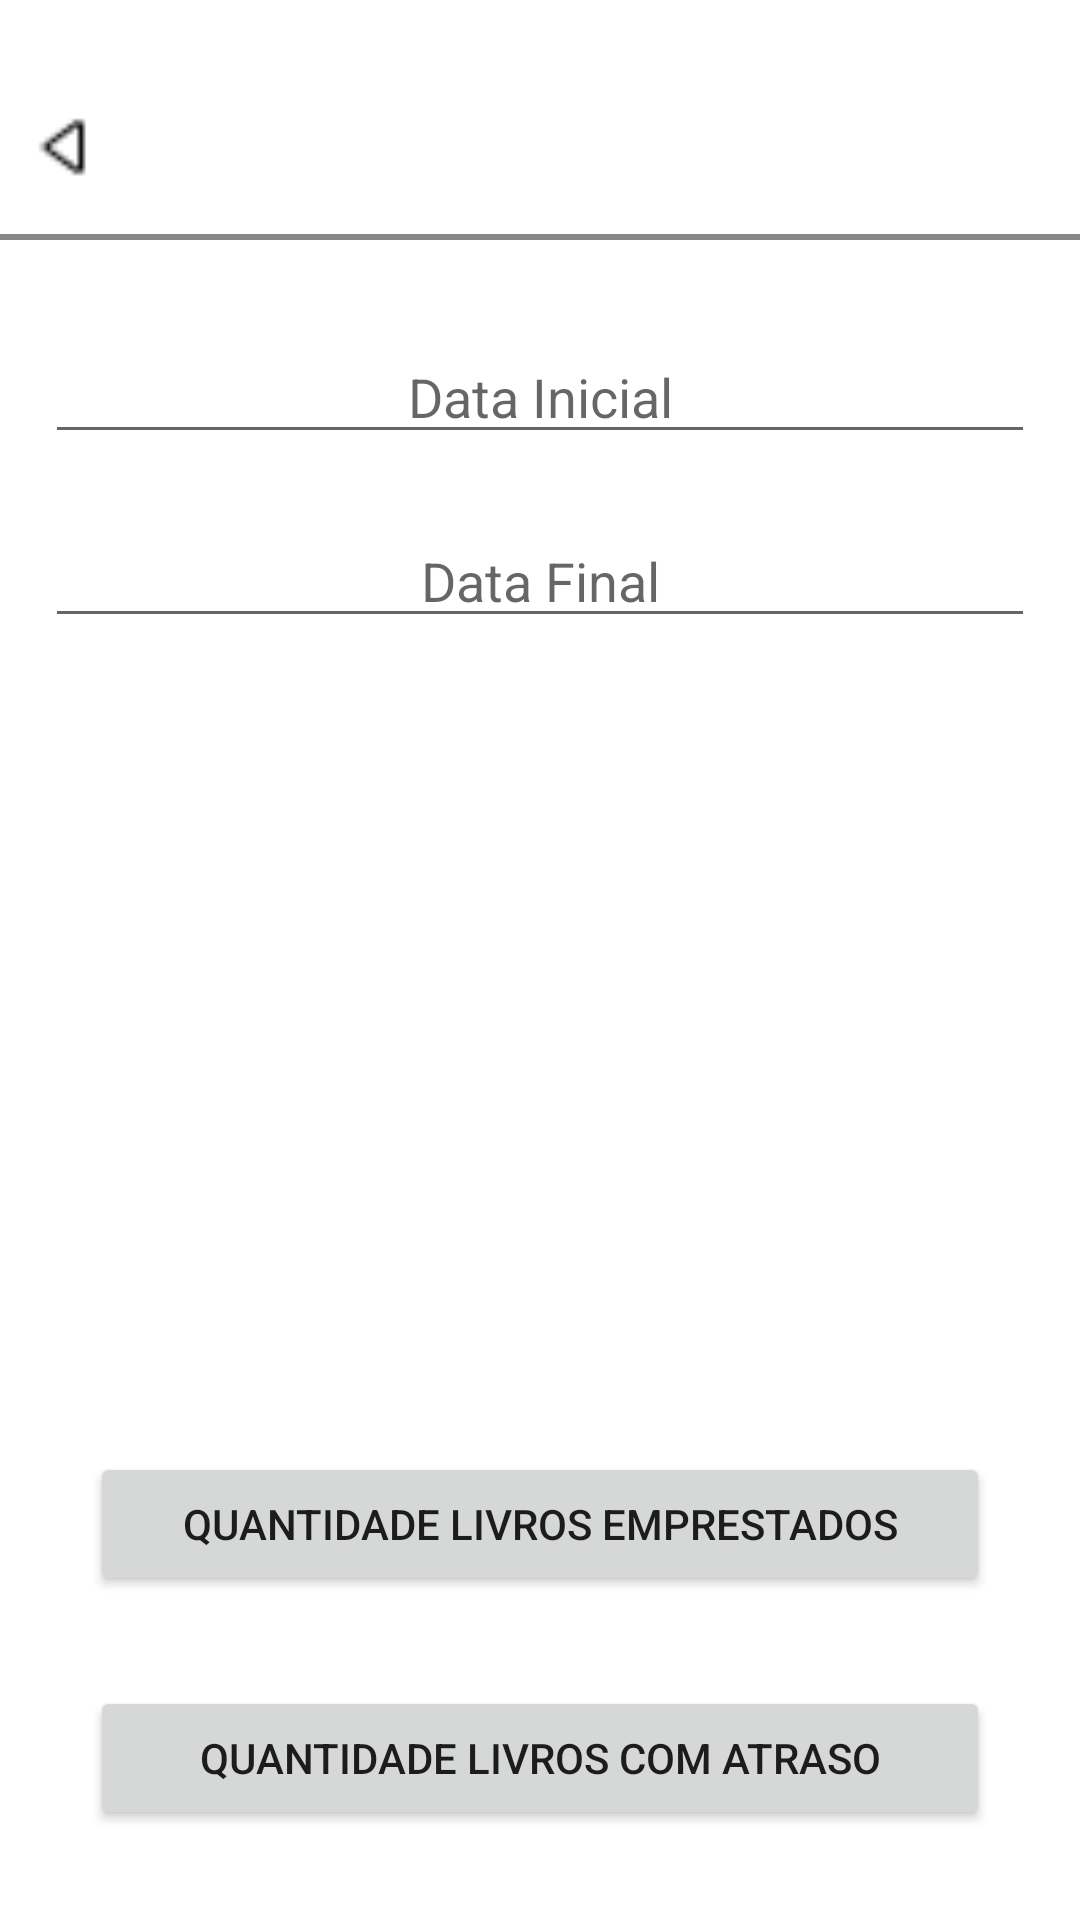

Point at icon controls on the screen. Image size 1080w x 1920h, points as [x,y].
arrow left: [62,147]
